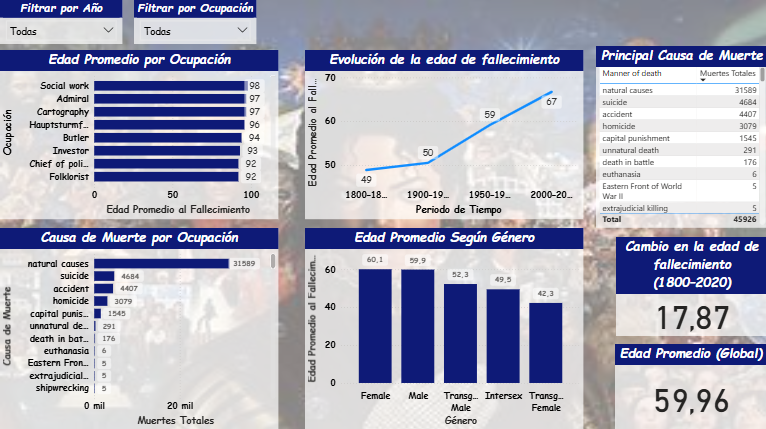

This screenshot's page, from the dashboard's own definition file:
{"tool":"powerbi","page":{"name":"Dashboard","canvas":[1280,720],"ordinal":1},"visuals":[{"type":"card","title":"Edad Promedio (Global)","fields":{"Values":["AgeDataset-V1.Promedio muertes de personas"]},"box":[1025.8,574.2,253.2,145.2],"z":0},{"type":"clusteredBarChart","title":"Edad Promedio por Ocupación","fields":{"Category":["AgeDataset-V1.Occupation"],"Y":["AgeDataset-V1.Promedio muertes de personas"]},"box":[0,85.1,464.2,282.1],"z":1000},{"type":"clusteredColumnChart","title":"Edad Promedio Según Género","fields":{"Category":["AgeDataset-V1.Gender"],"Y":["AgeDataset-V1.Edad Promedio al Fallecimiento"]},"box":[509,382.1,464.2,337.3],"z":2000},{"type":"slicer","title":"Filtrar por Año","fields":{"Values":["AgeDataset-V1.Death year"]},"box":[0,0,204.5,74.6],"z":3000},{"type":"slicer","title":"Filtrar por Ocupación","fields":{"Values":["AgeDataset-V1.Occupation"]},"box":[223.9,0,204.5,74.6],"z":4000},{"type":"card","title":"Cambio en la edad de fallecimiento (1800–2020)","fields":{"Values":["AgeDataset-V1.Diferencia Edad"]},"box":[1027.4,396.8,253.2,164.5],"z":5000},{"type":"lineChart","title":"Evolución de la edad de fallecimiento","fields":{"Category":["AgeDataset-V1.Periodo"],"Y":["AgeDataset-V1.Edad Promedio al Fallecimiento"]},"box":[509,85.1,464.2,282.1],"z":6000},{"type":"clusteredBarChart","title":"Causa de Muerte por Ocupación","fields":{"Category":["AgeDataset-V1.Manner of death"],"Y":["AgeDataset-V1.Muertes Totales"]},"box":[0,382.1,464.2,337.3],"z":7000},{"type":"tableEx","title":"Principal Causa de Muerte","fields":{"Values":["AgeDataset-V1.Manner of death","AgeDataset-V1.Muertes Totales"]},"box":[993.5,79,287.1,303.2],"z":8000}]}

Visuals, with their boxes in screenshot pixels (x1, y1, x2, y2), scaled from the page's 1280x720 canvas onto the 766x429 screenshot:
"Edad Promedio (Global)" card: <region>614, 342, 765, 428</region>
"Edad Promedio por Ocupación" clusteredBarChart: <region>0, 51, 278, 219</region>
"Edad Promedio Según Género" clusteredColumnChart: <region>305, 228, 582, 428</region>
"Filtrar por Año" slicer: <region>0, 0, 122, 44</region>
"Filtrar por Ocupación" slicer: <region>134, 0, 256, 44</region>
"Cambio en la edad de fallecimiento (1800–2020)" card: <region>615, 236, 765, 334</region>
"Evolución de la edad de fallecimiento" lineChart: <region>305, 51, 582, 219</region>
"Causa de Muerte por Ocupación" clusteredBarChart: <region>0, 228, 278, 428</region>
"Principal Causa de Muerte" tableEx: <region>595, 47, 765, 228</region>
